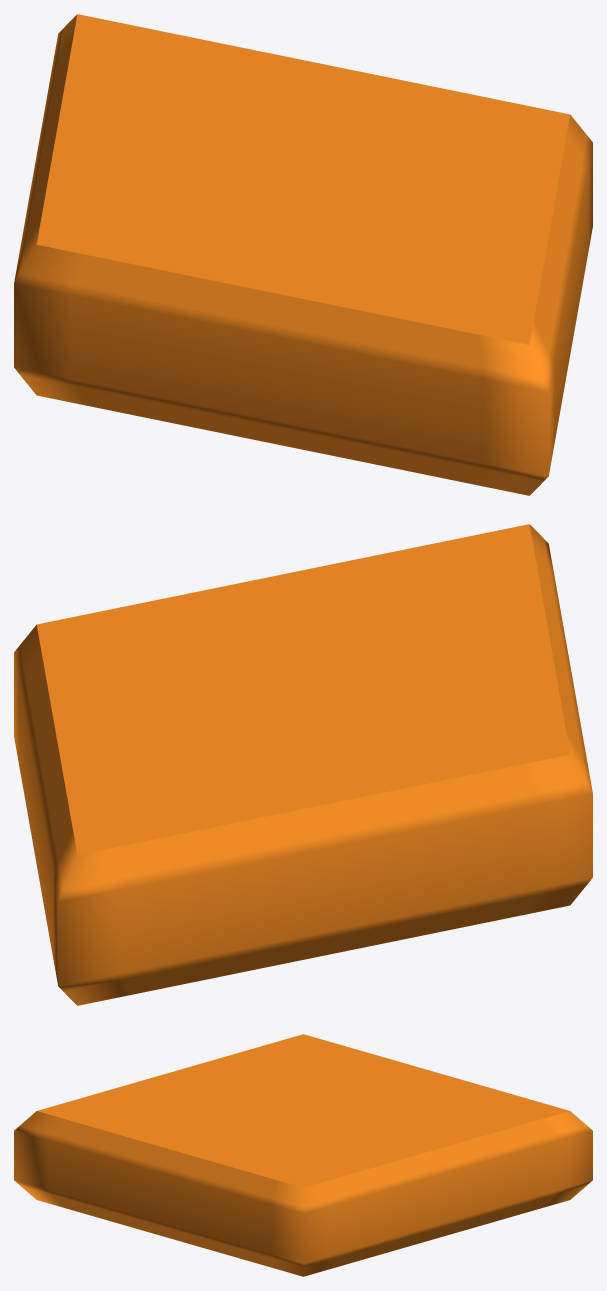
File: sign_add.fbx
3 views of the same model, one above another, from view 1: azimuth 30°, elevation 25°; view 2: azimuth 150°, elevation 25°; view 3: azimuth 270°, elevation 25° (orthographic). The views are drawn at different scales.
Parts seen in each view (by area): view 1: polySurface31; view 2: polySurface31; view 3: polySurface31.
Part boxes in pixels (x1,y1,x2,y2): polySurface31: (14,14,592,495); polySurface31: (14,524,592,1005); polySurface31: (14,1034,592,1276).
Size of the model in its own units: 0.4502 by 0.1121 by 0.6607.
1 material, 1 textured.
